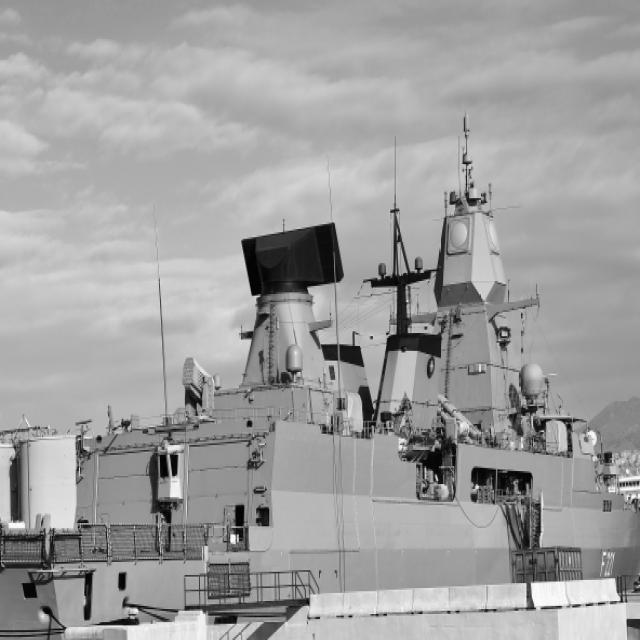Fragata: (1, 136, 640, 640)
